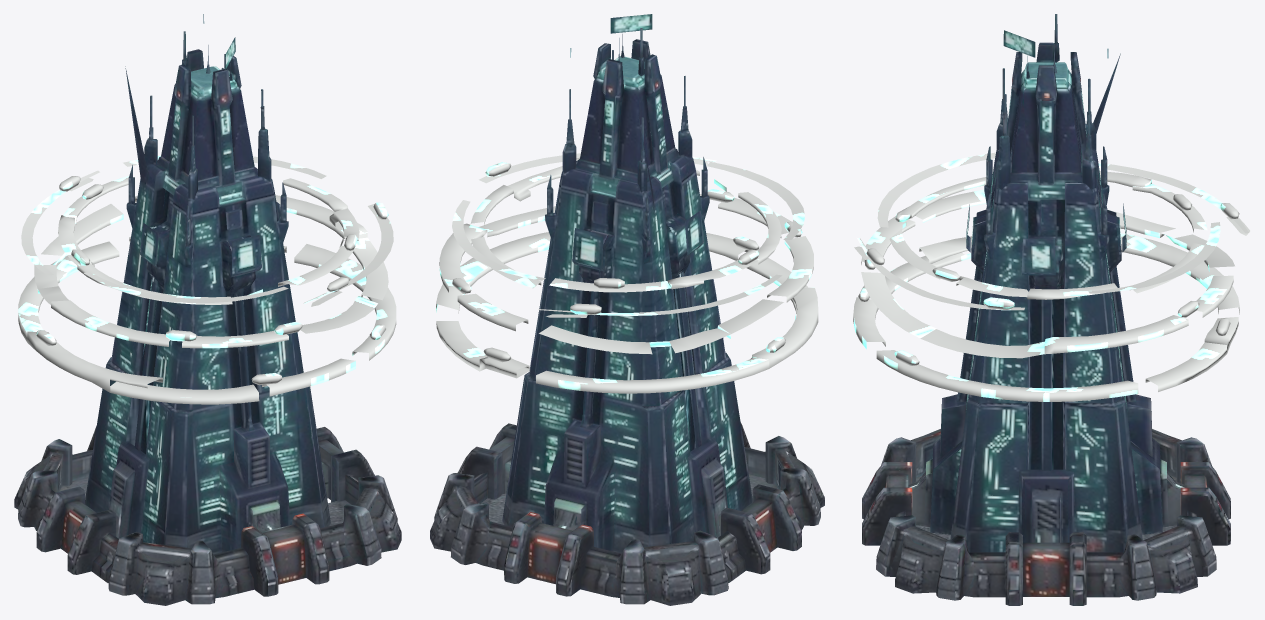
Rendered from ville_v1.glb.
3 views of the same model, side by side, from view 1: azimuth 30°, elevation 25°; view 2: azimuth 150°, elevation 25°; view 3: azimuth 270°, elevation 25° (orthographic). The views are drawn at different scales.
Parts seen in each view (by area): view 1: ville_v1; view 2: ville_v1; view 3: ville_v1.
Part boxes in pixels (left/top/right/bottom): ville_v1: left=14, top=14, right=401, bottom=605; ville_v1: left=430, top=14, right=824, bottom=605; ville_v1: left=853, top=14, right=1249, bottom=605.
Size of the model in its own units: 1.8 by 2.6 by 1.85.
Materials: 2 (2 with a texture image).
